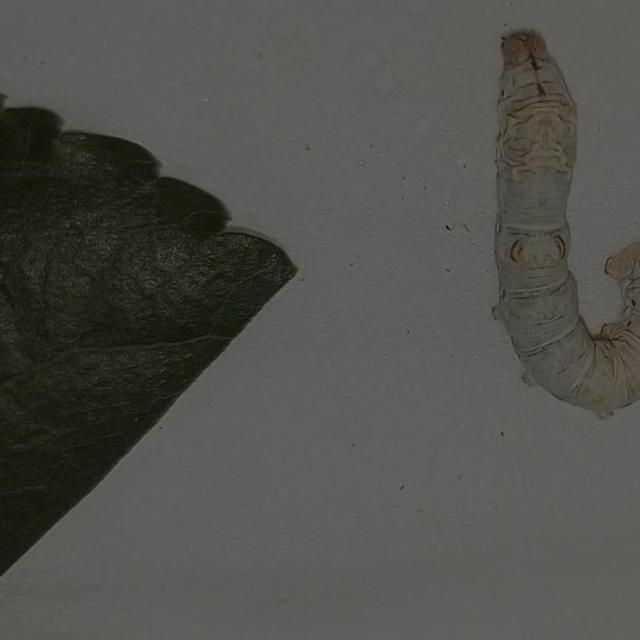Healthy: (476, 21, 640, 423)
